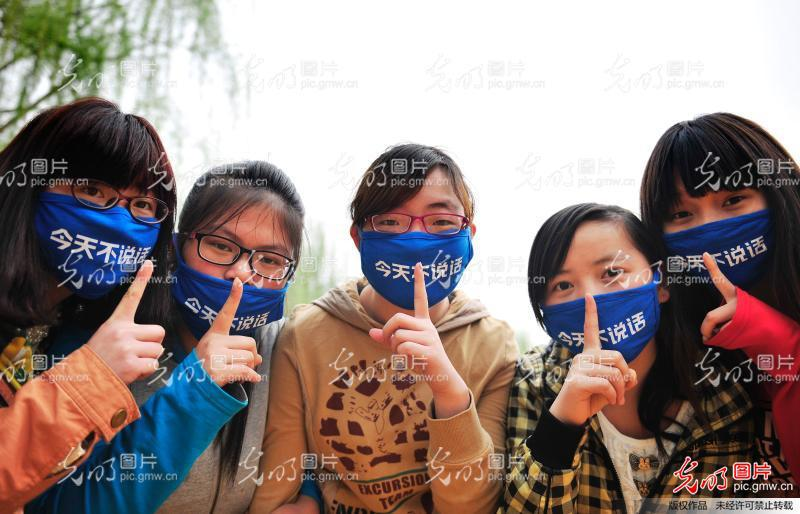OK: (46, 165, 182, 301), (532, 247, 652, 367), (657, 179, 776, 298), (362, 194, 466, 298)
WRONG: (186, 219, 295, 328)
